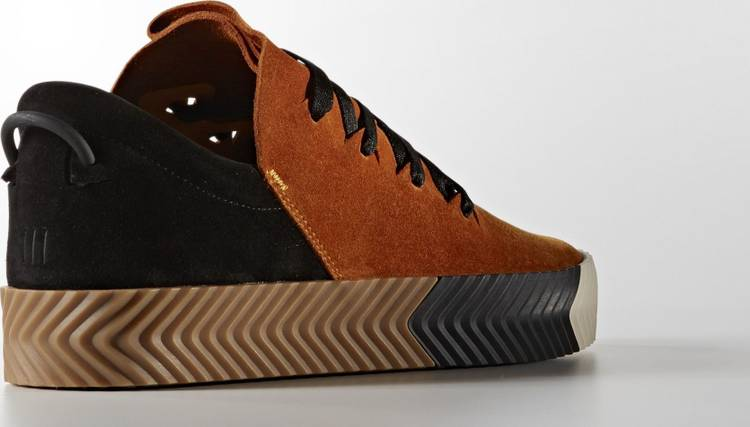adidas AW Skate Sand: (1, 1, 635, 389)
